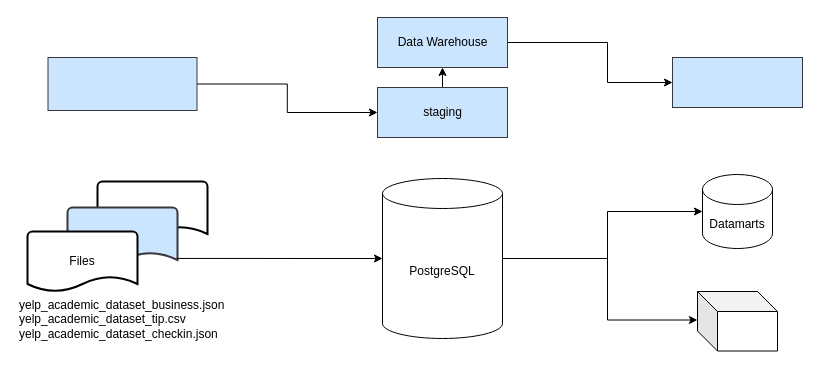
This 820x369 diagram has some shape labels left out. The centre of each missing label's shape, as x and y in pixels:
Cubes: pixel 737 320
Data Access: pixel 737 82
Sources de données: pixel 122 83
